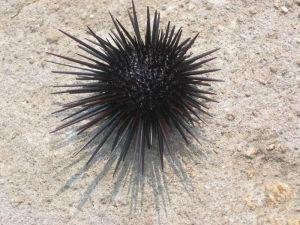urchin: (54, 2, 207, 161)
